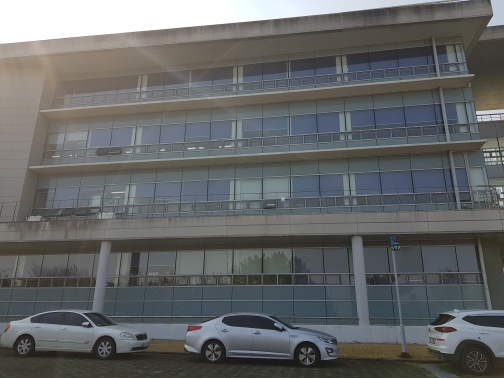Engineering College Building 4: (11, 46, 500, 301), (118, 32, 393, 310)
